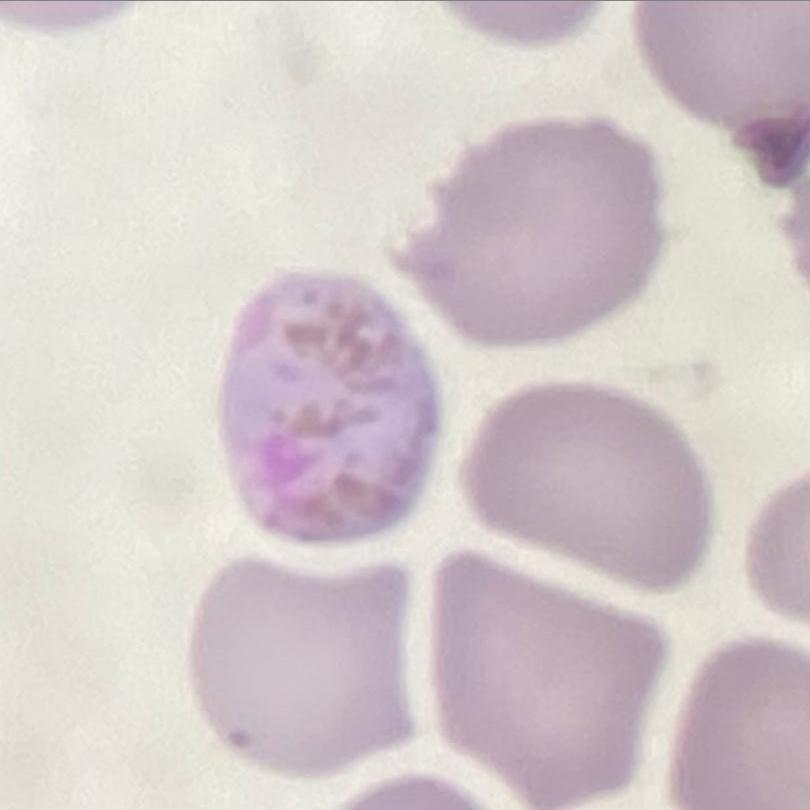Infected: (220, 257, 441, 550)
Uninfected: (428, 553, 660, 810), (408, 117, 657, 343), (462, 381, 712, 591), (184, 559, 411, 782)
